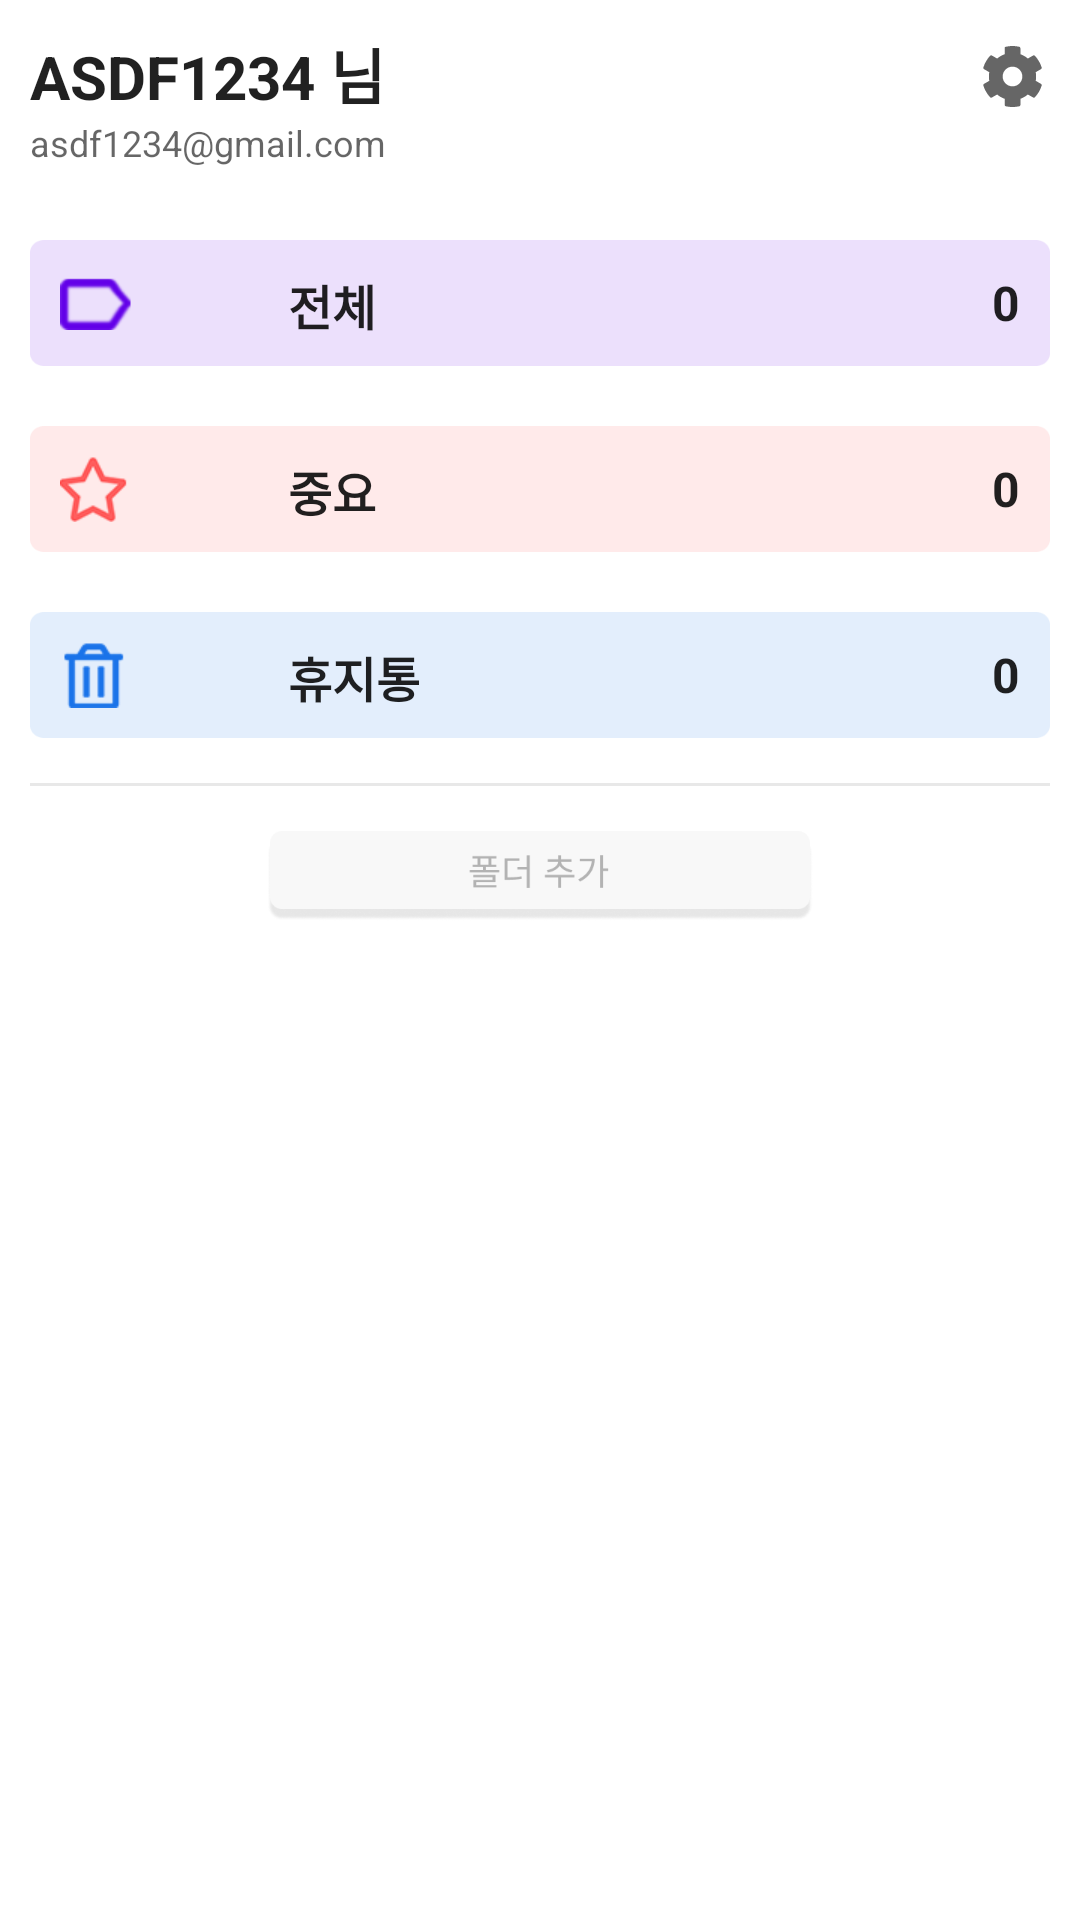

Named icons in this screenshot (1080 × 1920) and their bounding boxes, detection(x1, y1, x2, y2):
settings: detection(983, 46, 1042, 107)
